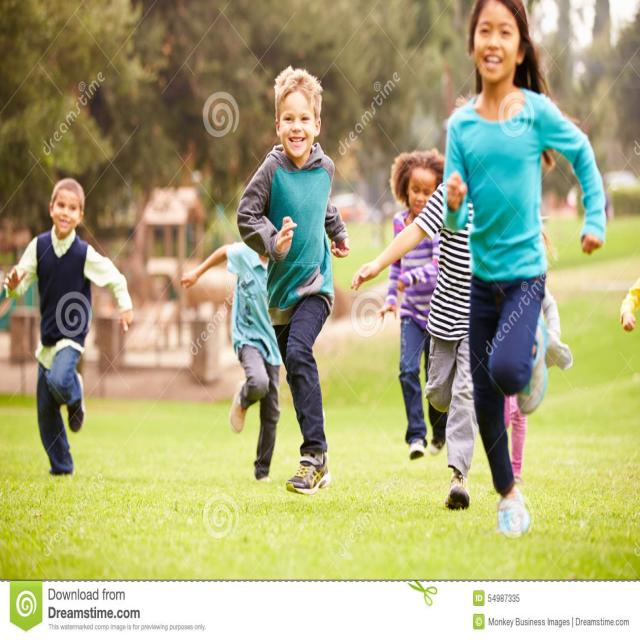body: (439, 0, 608, 530), (236, 59, 352, 502), (348, 176, 479, 511), (0, 173, 137, 486), (179, 238, 284, 484), (375, 147, 449, 462), (472, 215, 552, 489), (620, 276, 638, 350)
